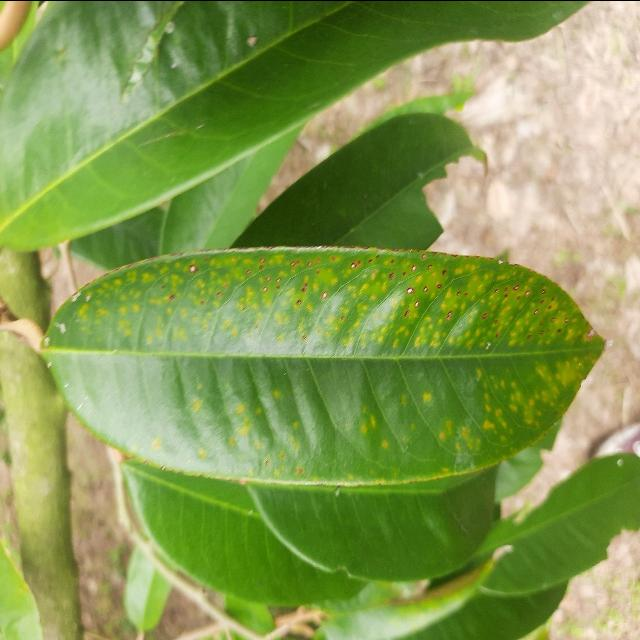Leaf Spot: (21, 235, 620, 493)
